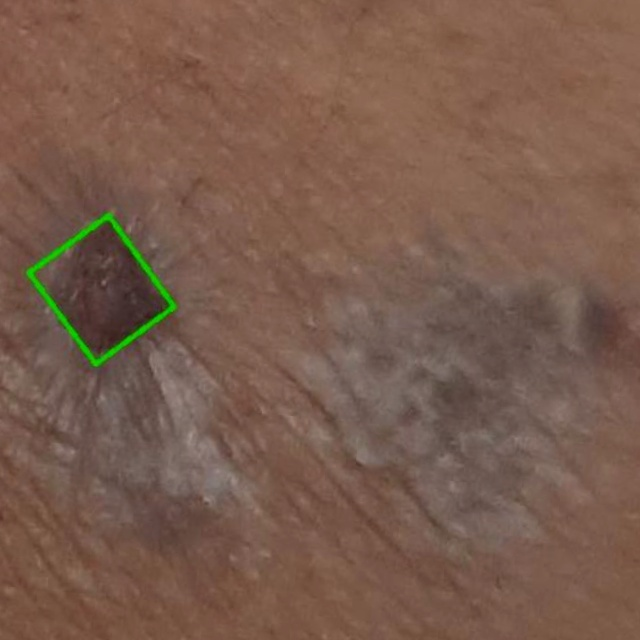Atopic Dermatitis: (28, 216, 173, 364)
